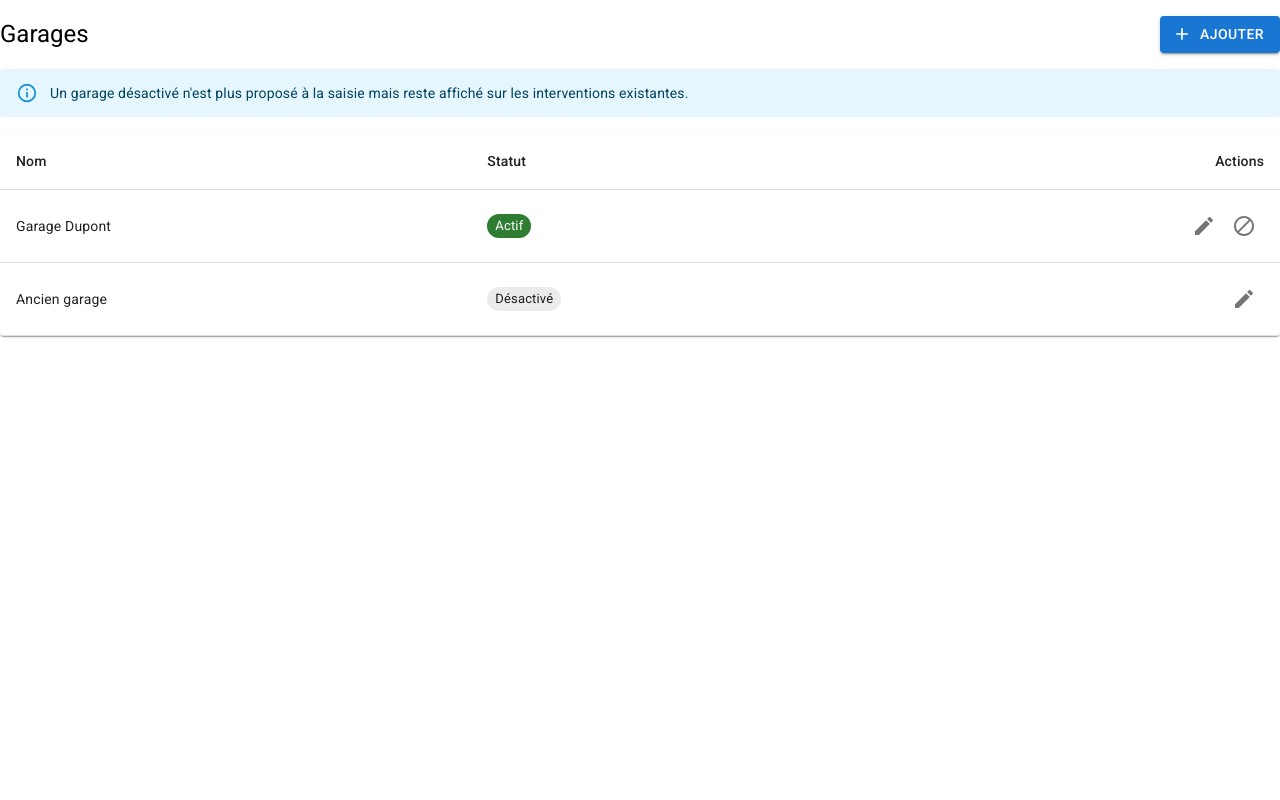
GaragesPage › renomme un garage et affiche l'erreur métier en français
Expected: the text "Garage Dupont" is shown, [0,189,471,262]
Click the button named "Renommer Garage Dupont" at x=1204, y=226, box [1184,206,1224,246]
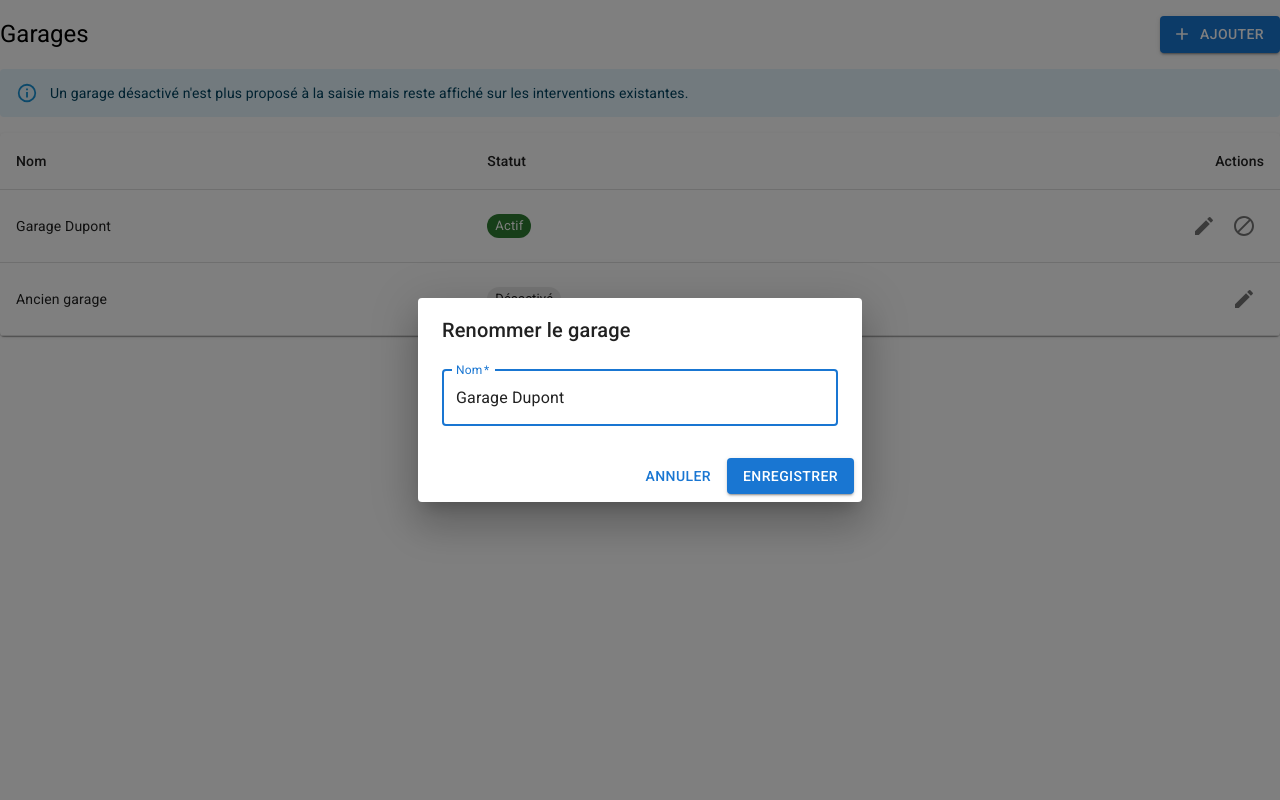
Replace the text in the field labelled "Nom *" with "Norauto" at x=640, y=398, box [442,370,838,426]
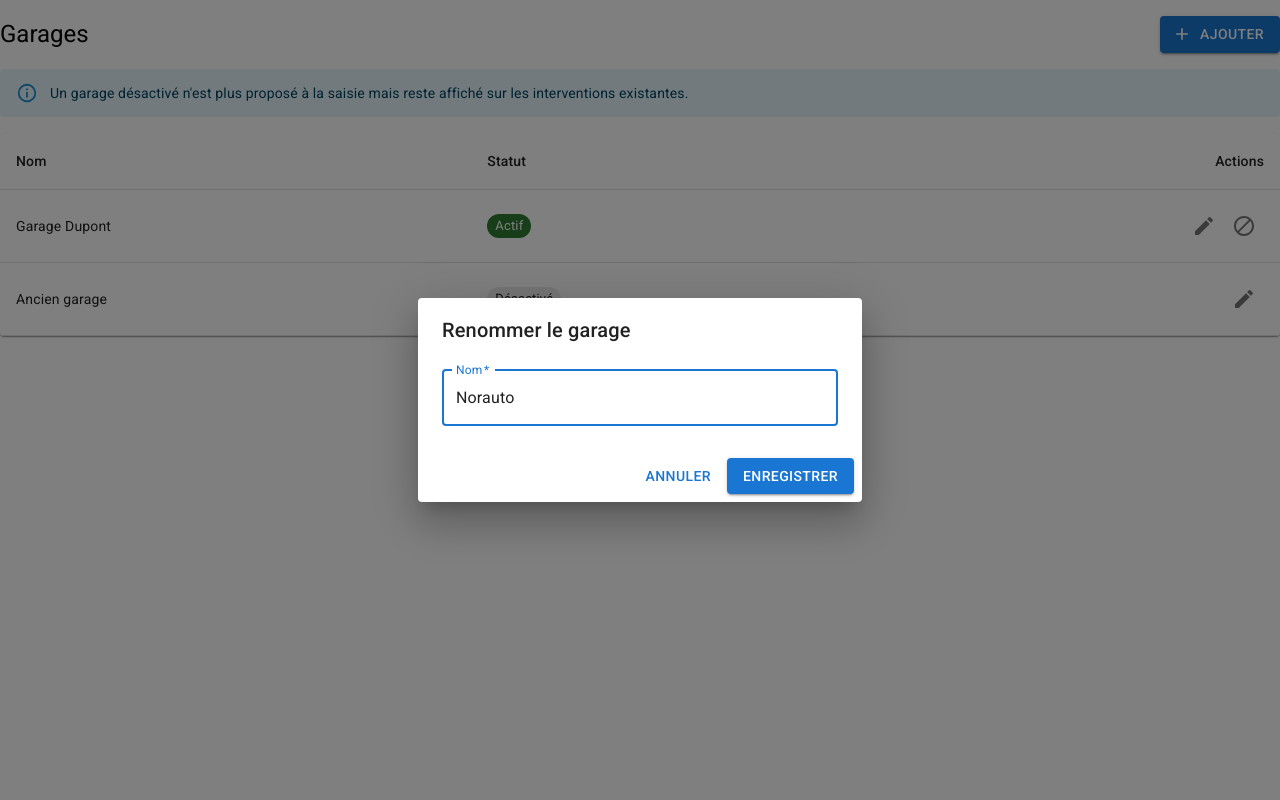
Click the button "Enregistrer" at x=790, y=476, box [727,458,854,494]
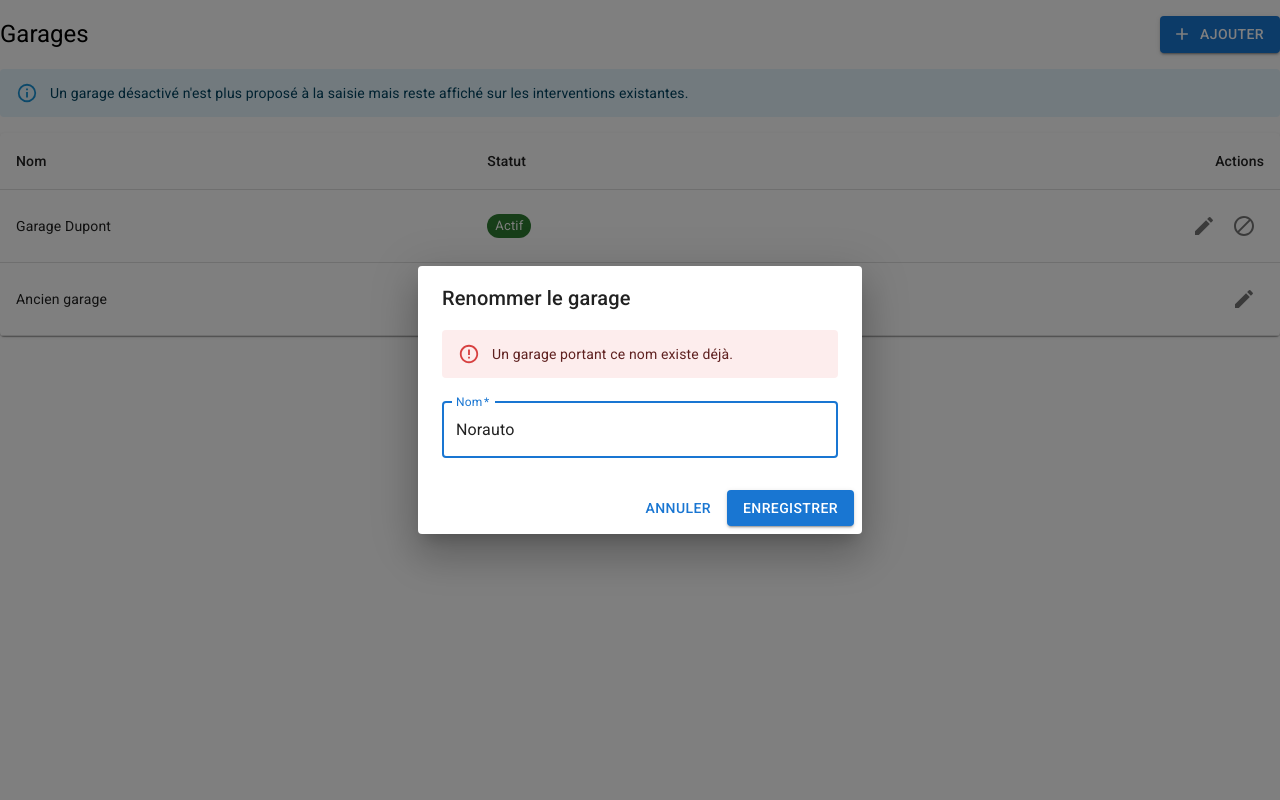
Expected: the text "Un garage portant ce nom existe déjà." is shown, [492,346,733,362]
